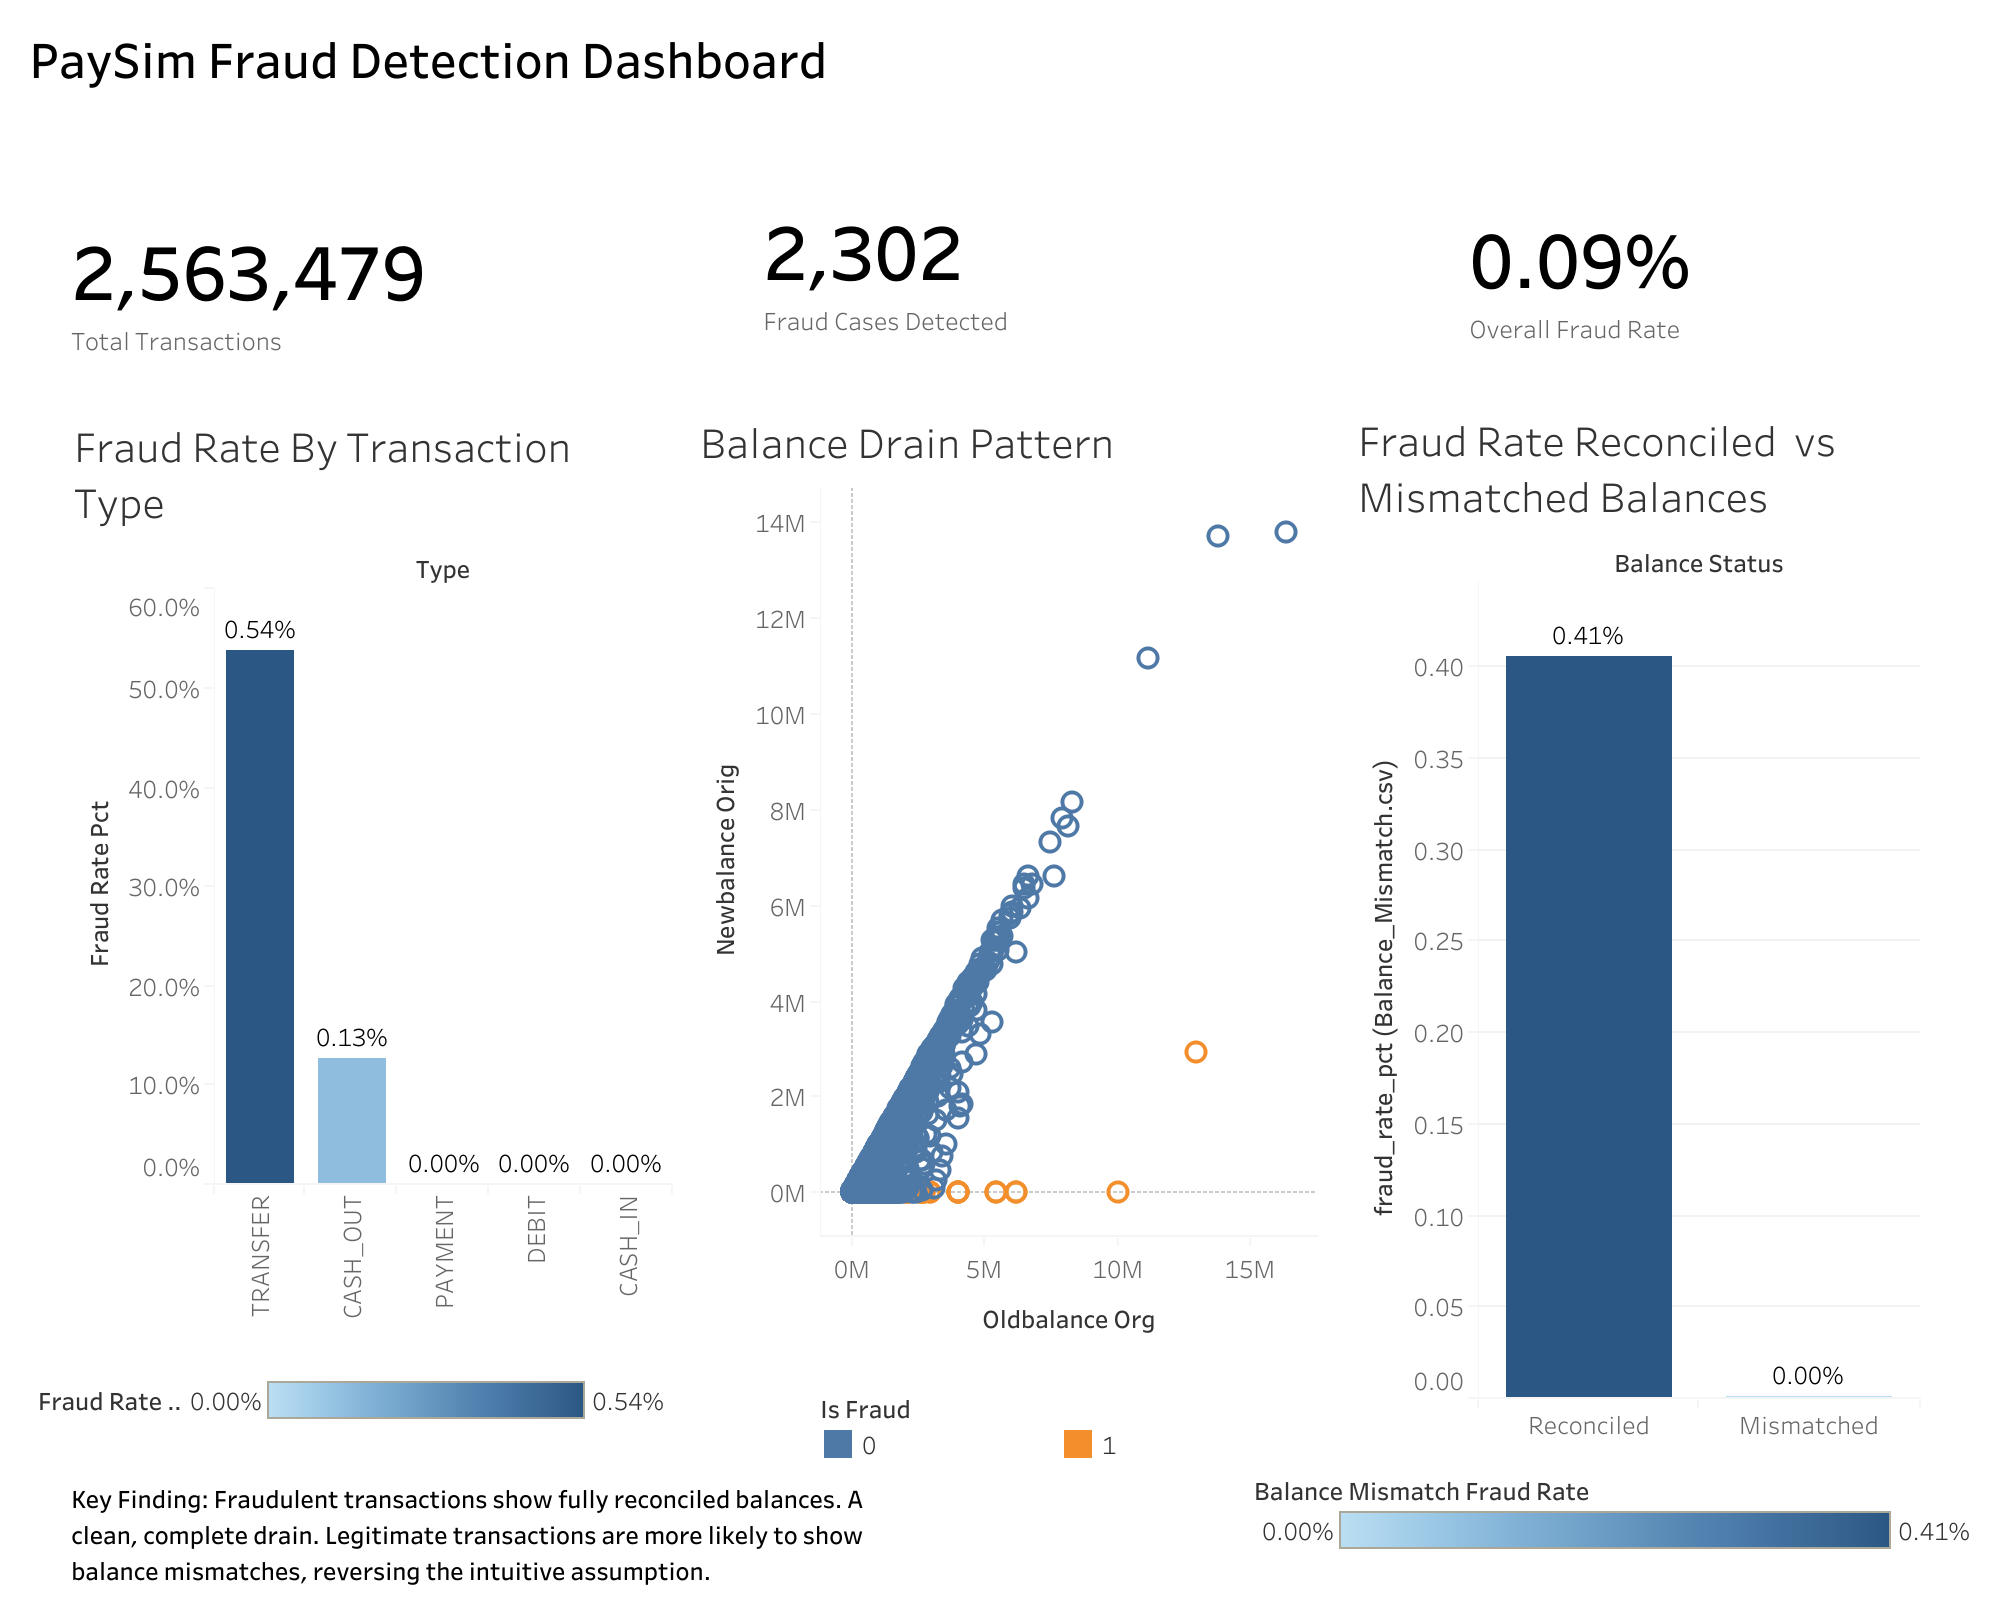

What the dashboard file says about the page in this screenshot:
{"tool":"tableau","page":{"name":"Dashboard 1","canvas":[1000,800],"ordinal":0},"visuals":[{"type":"title","box":[8,8,984,41]},{"type":"text","box":[379,95,181,78]},{"type":"text","box":[732,101,161,73]},{"type":"text","box":[33,107,293,74]},{"type":"worksheet","title":"Fraud Rate Reconciled vs Mismatched Balances ","mark":"Automatic","rows":["fraud_rate_pct (Balance_Mismatch.csv)"],"cols":["Calculation_4304683156733952"],"box":[675,200,285,521]},{"type":"worksheet","title":"Balance Drain Pattern","mark":"Automatic","rows":["newbalanceOrig"],"cols":["oldbalanceOrg"],"box":[346,201,313,474]},{"type":"worksheet","title":"Fraud Rate By Transaction Type","mark":"Automatic","rows":["fraud_rate_pct"],"cols":["type"],"box":[33,203,303,469]},{"type":"text","box":[405,544.3,247,247.7]},{"type":"legend","title":"Fraud Rate By Transaction Type","param":"[federated.1hszet50twvp9f1d4ggv409cuuoo].[sum:Calculation_0591451034116096:qk]","box":[19,687,318,41]},{"type":"legend","title":"Balance Drain Pattern","param":"[federated.1hszet50twvp9f1d4ggv409cuuoo].[none:isFraud:ok]","box":[409,693,247,40]},{"type":"legend","title":"Fraud Rate Reconciled vs Mismatched Balances ","param":"[federated.1hszet50twvp9f1d4ggv409cuuoo].[sum:Calculation_0591451035684865:qk]","box":[627,732,363,48]},{"type":"text","box":[33,738,419,58]}]}

Visuals, with their boxes in screenshot pixels (x1, y1, x2, y2), scaled from the page's 1000x800 canvas onto the 1998x1598 screenshot:
title: <box>16,16,1982,98</box>
text: <box>757,190,1119,346</box>
text: <box>1463,202,1784,348</box>
text: <box>66,214,651,362</box>
"Fraud Rate Reconciled vs Mismatched Balances " worksheet: <box>1349,400,1918,1440</box>
"Balance Drain Pattern" worksheet: <box>691,401,1317,1348</box>
"Fraud Rate By Transaction Type" worksheet: <box>66,405,671,1342</box>
text: <box>809,1087,1303,1582</box>
"Fraud Rate By Transaction Type" legend: <box>38,1372,673,1454</box>
"Balance Drain Pattern" legend: <box>817,1384,1311,1464</box>
"Fraud Rate Reconciled vs Mismatched Balances " legend: <box>1253,1462,1978,1558</box>
text: <box>66,1474,903,1590</box>
